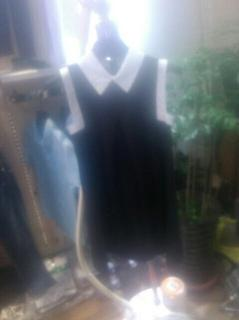short sleeve dress: (59, 48, 183, 266)
